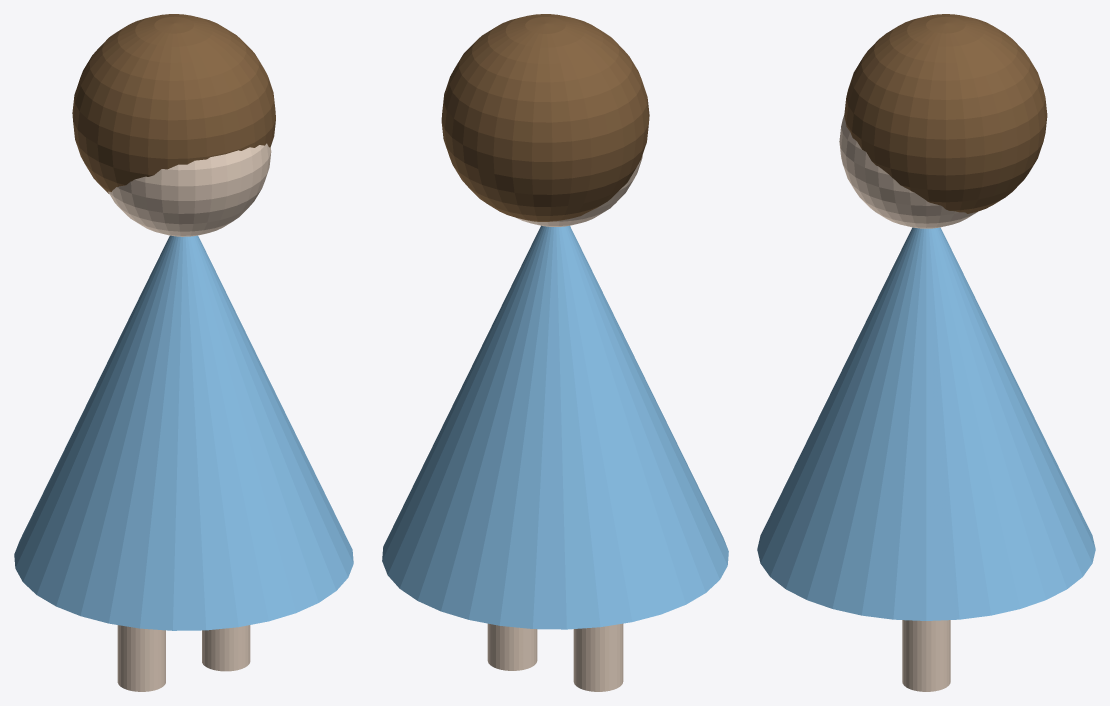
File: girl_child.glb
The picture shows the model from 3 angles, left to right: view 1: azimuth 30°, elevation 25°; view 2: azimuth 150°, elevation 25°; view 3: azimuth 270°, elevation 25°; orthographic projection. The views are drawn at different scales.
Visible parts, largest first — view 1: Cone, Sphere.001, Sphere, Cylinder, Cylinder.001; view 2: Cone, Sphere.001, Cylinder, Cylinder.001, Sphere; view 3: Cone, Sphere.001, Sphere, Cylinder.001.
Part boxes in pixels (x1,y1,x2,y2): Cone: (14,235,353,630); Sphere.001: (72,14,275,193); Sphere: (108,143,271,236); Cylinder: (117,625,165,691); Cylinder.001: (202,625,250,671); Cone: (382,225,728,629); Sphere.001: (441,14,649,221); Cylinder: (573,623,623,691); Cylinder.001: (487,623,537,670); Sphere: (517,155,642,226); Cone: (757,227,1095,620); Sphere.001: (844,14,1047,213); Sphere: (839,115,977,228); Cylinder.001: (902,620,950,691).
Size of the model in its own units: 0.7 by 1.45 by 0.7.
